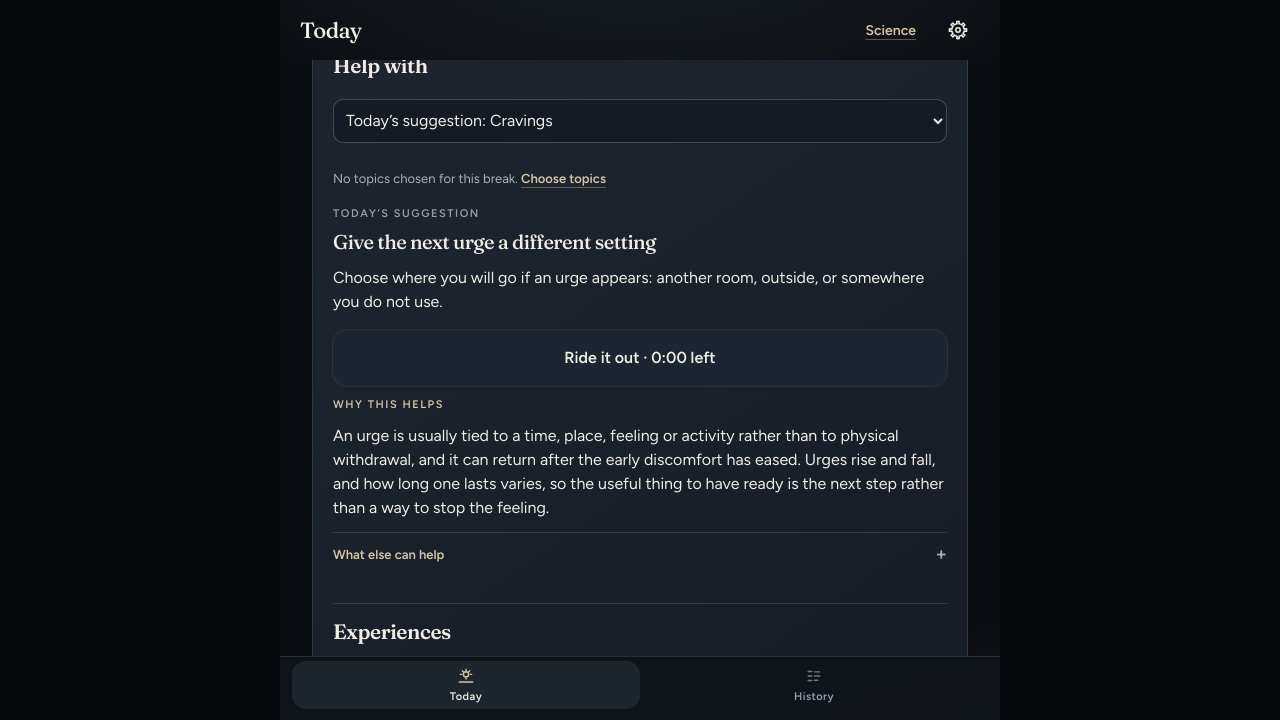
ride it out › asks how it went once the countdown is done, and records what was reported
(page scrolled)
Click the button with test id "open-ride-it-out". click: click(640, 358)
box: [333,330,947,386]
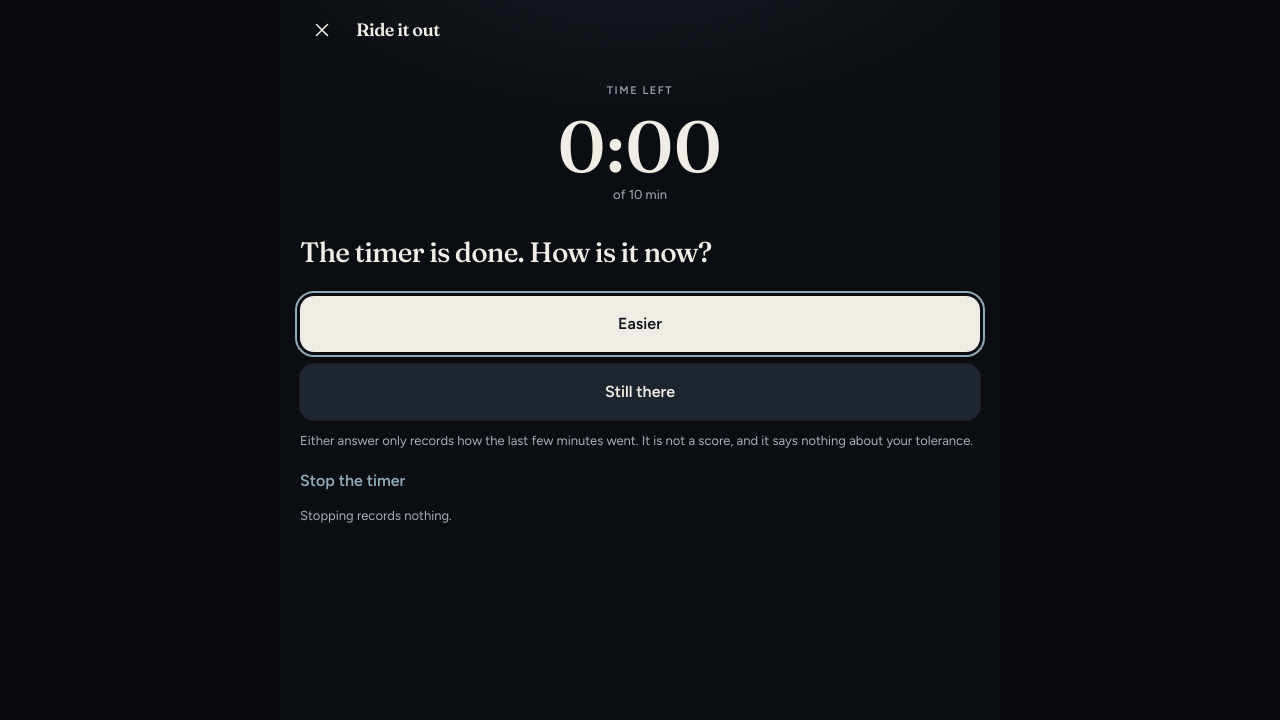
expect the text with test id "ride-countdown" reads "0:00": met, box [558,102,722,190]
Click the button with test id "ride-still-there". click: click(640, 392)
box: [300,364,980,420]
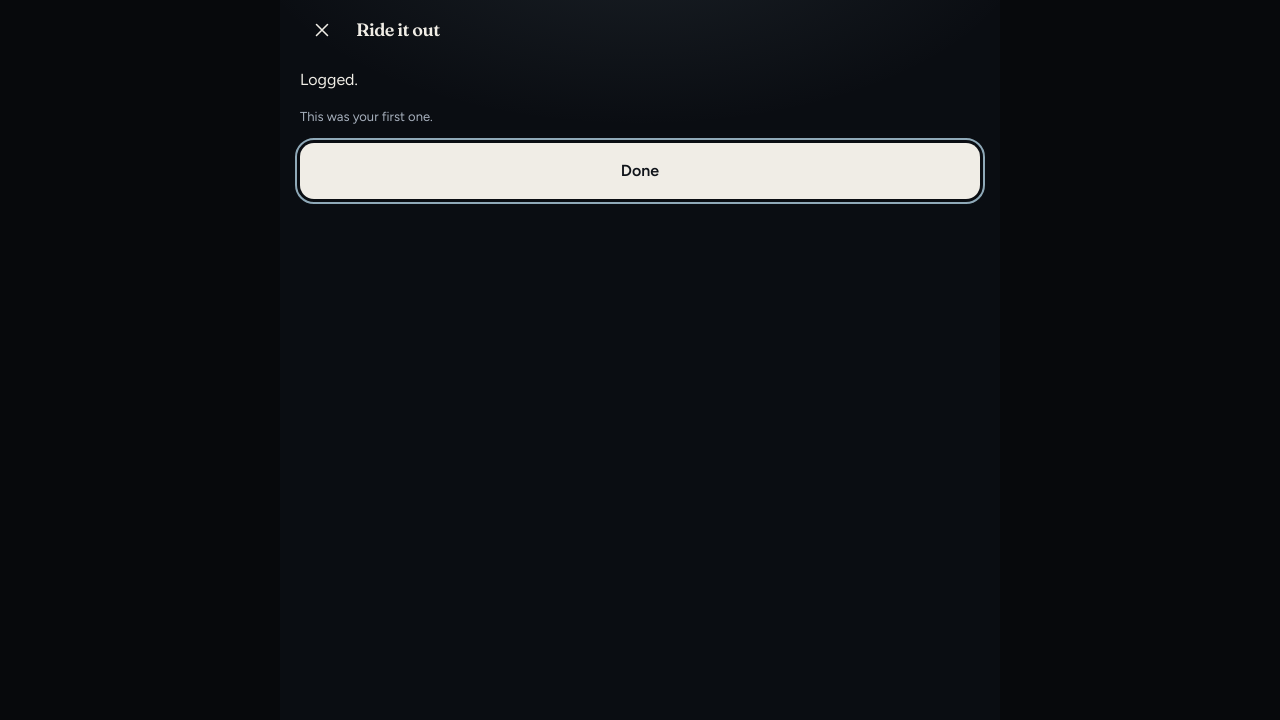
expect the text with test id "ride-done-line" reads "Logged.": met, box [300,70,358,89]
Click the button with test id "ride-close". click: click(640, 171)
box: [300,143,980,199]
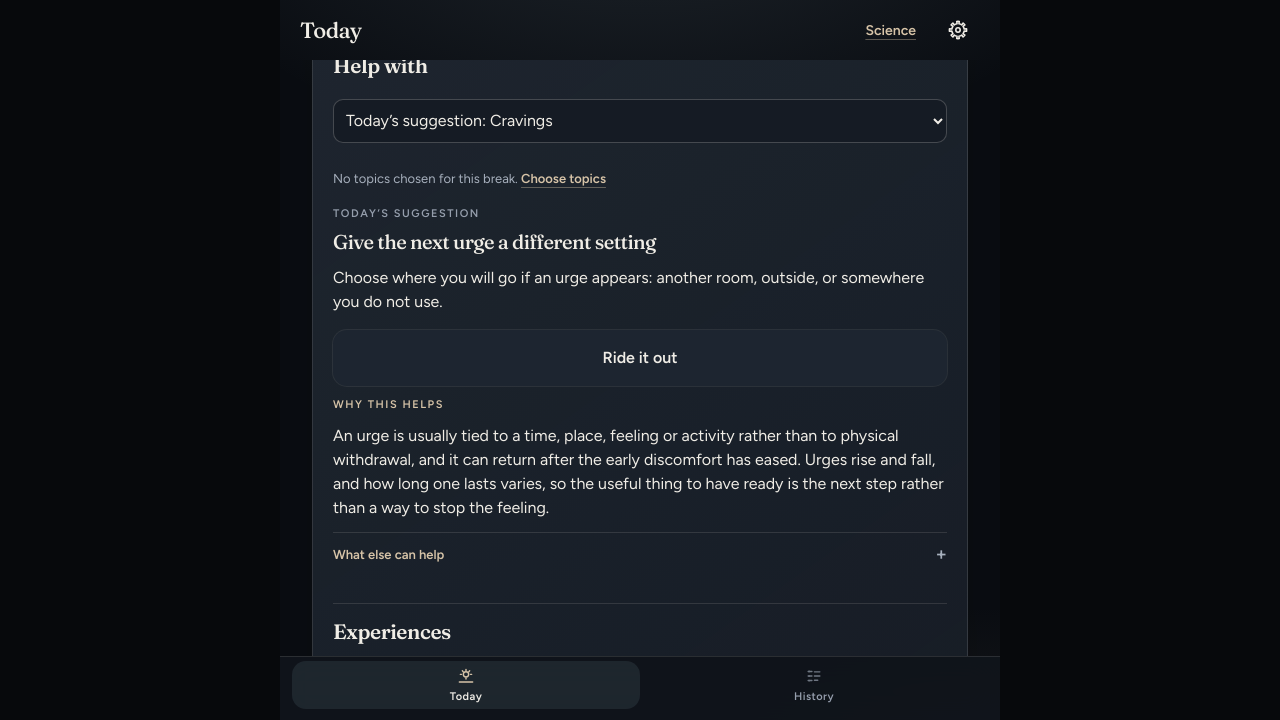
expect the dialog with test id "ride-it-out" is gone: met
